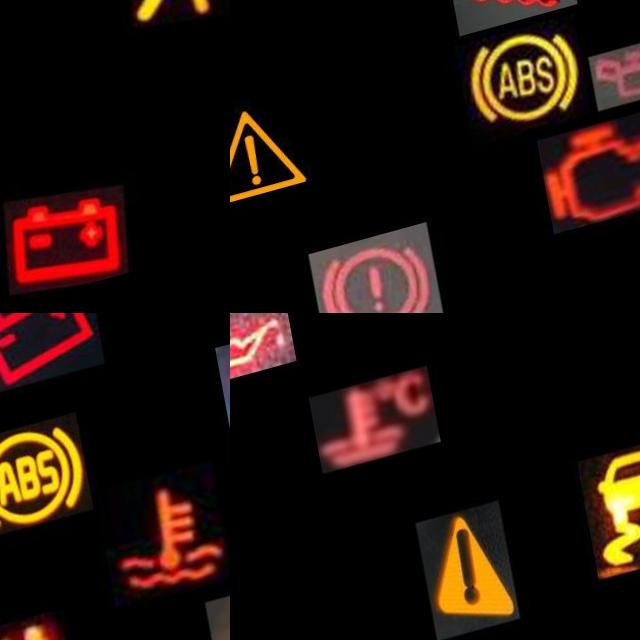Central Warning lamp: (404, 516, 505, 640), (230, 85, 303, 229)
Engine cooling system: (86, 478, 221, 621), (304, 379, 433, 481), (430, 0, 564, 52)
